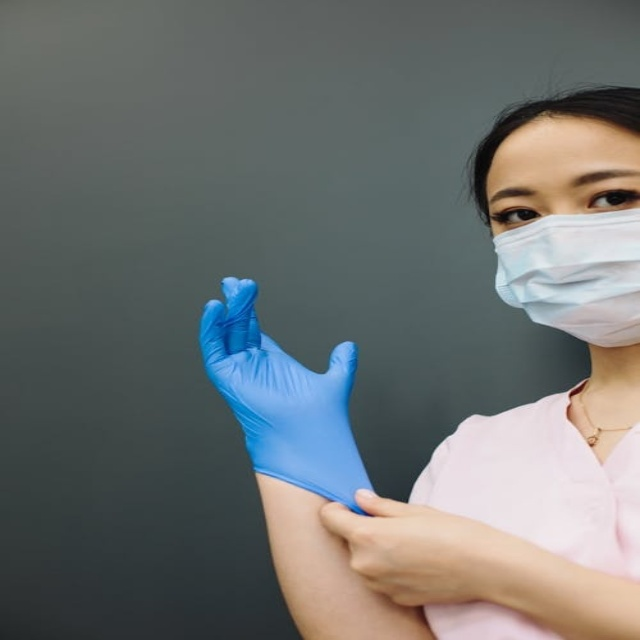Guantes: (197, 276, 378, 518)
Mascara: (488, 205, 640, 345)
Sin_gafas: (481, 172, 637, 234)
Sin_guantes: (317, 491, 487, 605)
